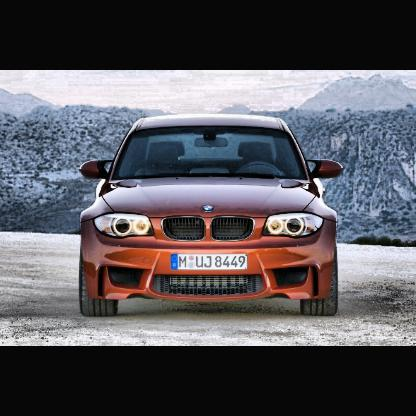BMW 1 Series Coupe 2012: (78, 115, 346, 318)
